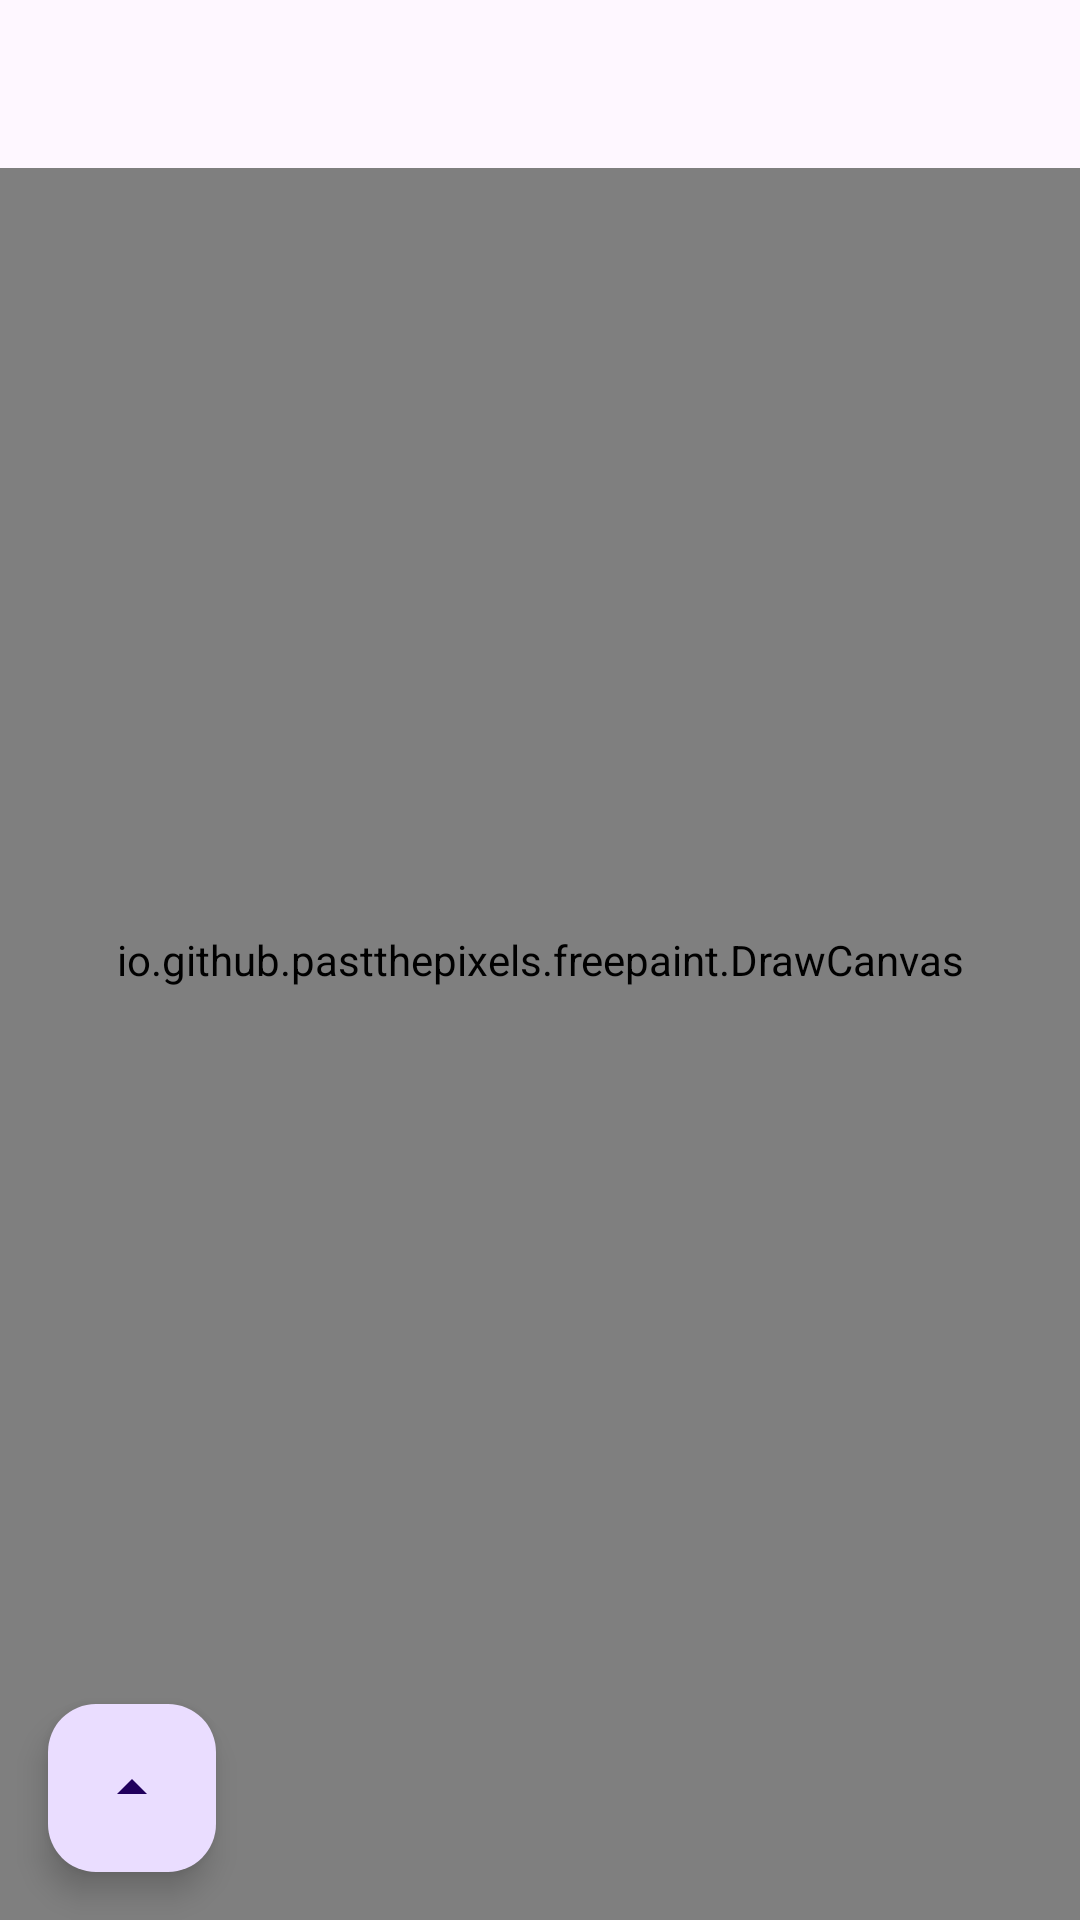

Where icons sit on this 1080px×1920px app screen, as [x1=x1, y1=y1, x2=x2, y2=y2]:
Toggle toolbar visibility: [x1=48, y1=1704, x2=216, y2=1872]
